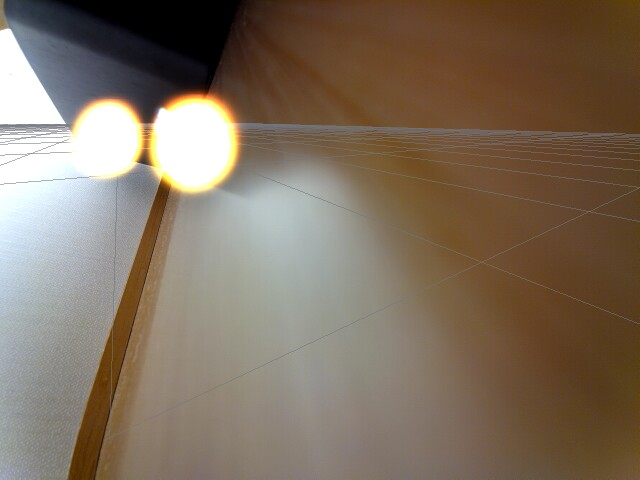firebig: (148, 87, 244, 196)
